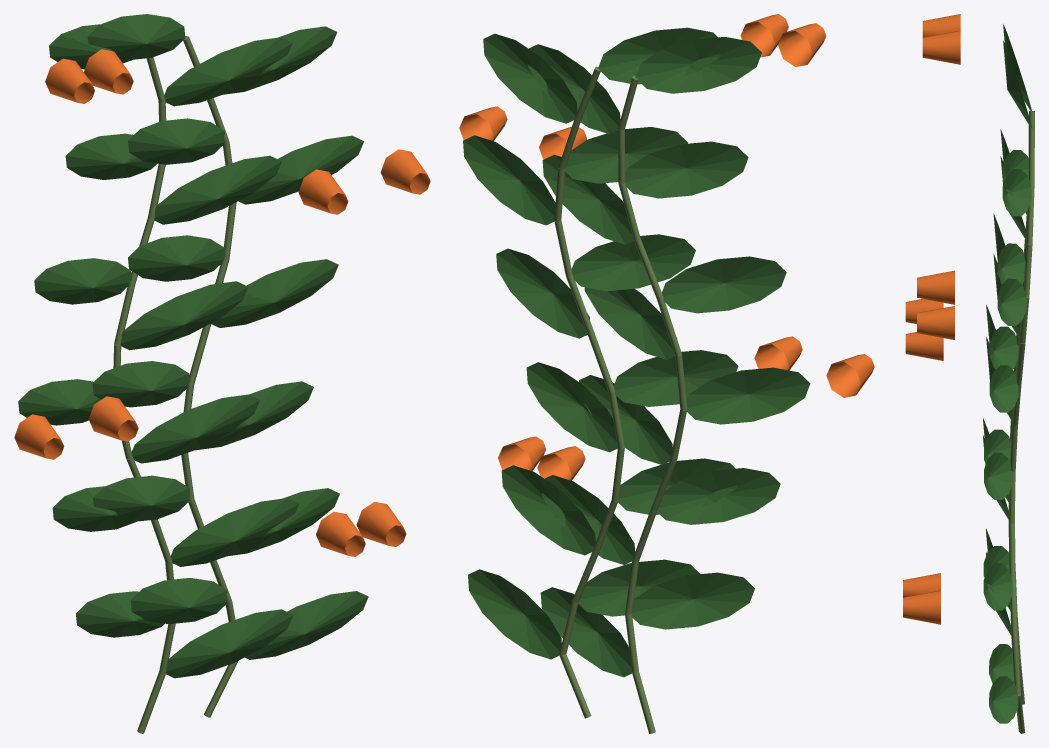
Rendered from pyrostegia-venusta.glb.
The picture shows the model from 3 angles, left to right: view 1: azimuth 30°, elevation 25°; view 2: azimuth 150°, elevation 25°; view 3: azimuth 270°, elevation 25°; orthographic projection. The views are drawn at different scales.
Visible parts, largest first — view 1: Climber species leaves, Species flowers / bracts, Climber species stems; view 2: Climber species leaves, Climber species stems, Species flowers / bracts; view 3: Climber species leaves, Species flowers / bracts, Climber species stems.
Boxes of the visible parts, x1,y1,x2,y2 form: Climber species leaves: (18,14,368,678); Species flowers / bracts: (14,49,430,556); Climber species stems: (113,36,238,733); Climber species leaves: (463,27,810,677); Climber species stems: (554,66,687,733); Species flowers / bracts: (459,14,874,480); Climber species leaves: (983,24,1031,723); Species flowers / bracts: (903,14,960,624); Climber species stems: (1008,111,1034,733).
Bounding box in the file's own units: 0.4922 × 0.8407 × 0.1564.
